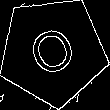O_SE: (24, 19, 82, 83)
